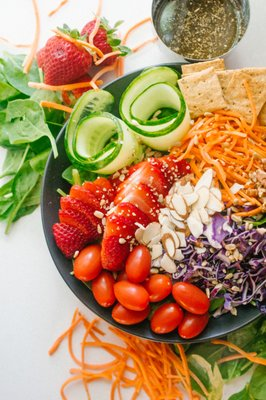sushi: (36, 4, 266, 392)
